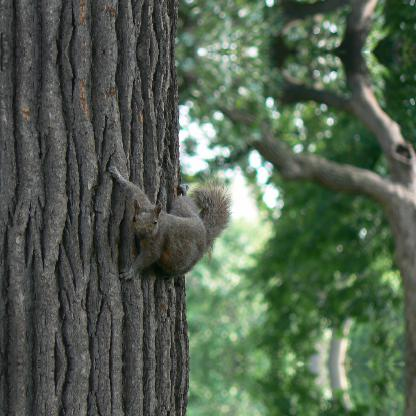Squirrel: (111, 166, 233, 280)
